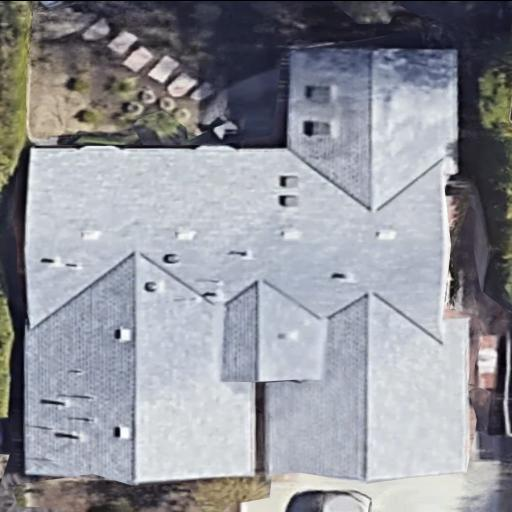Slope-Roof: (27, 49, 471, 483)
